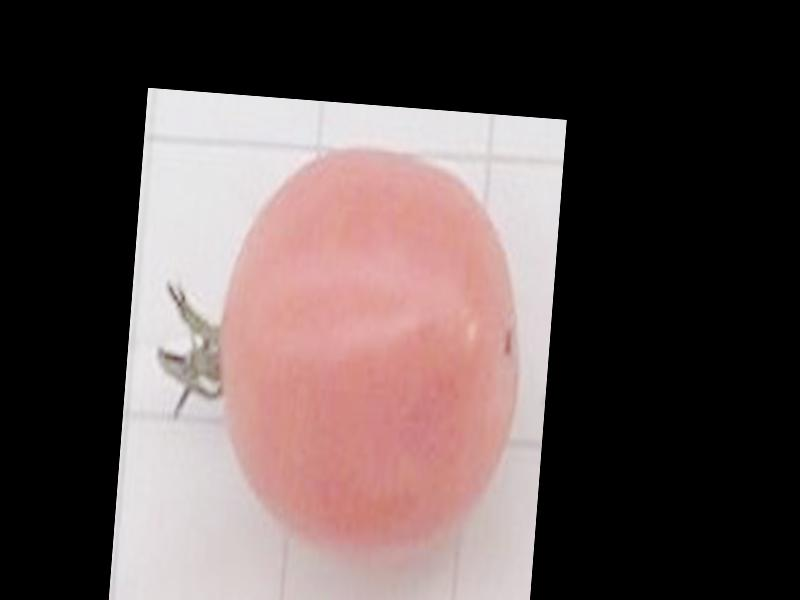Tomato: (205, 139, 536, 570)
